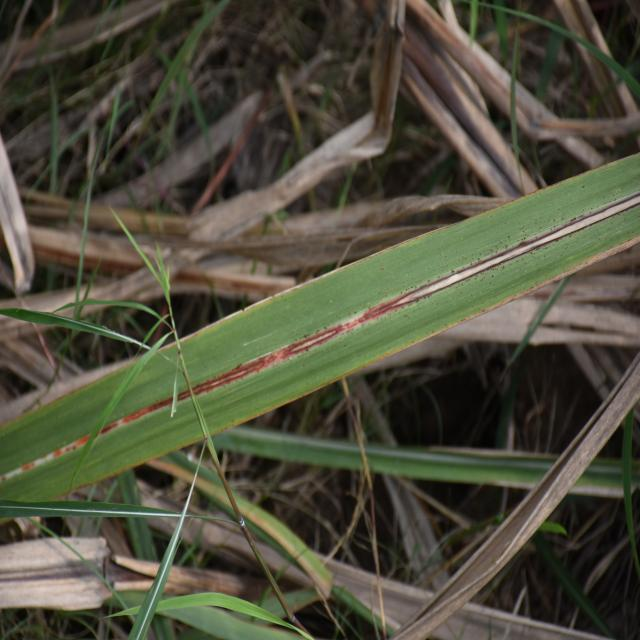Sugarcane: (0, 133, 633, 524), (4, 408, 635, 534), (132, 457, 332, 604), (128, 2, 236, 185), (490, 255, 581, 462), (110, 591, 316, 637), (534, 535, 624, 638), (406, 514, 524, 590), (89, 80, 125, 212), (109, 466, 156, 564)
